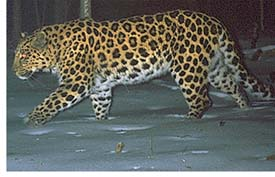amur_leopard: (11, 11, 269, 128)
